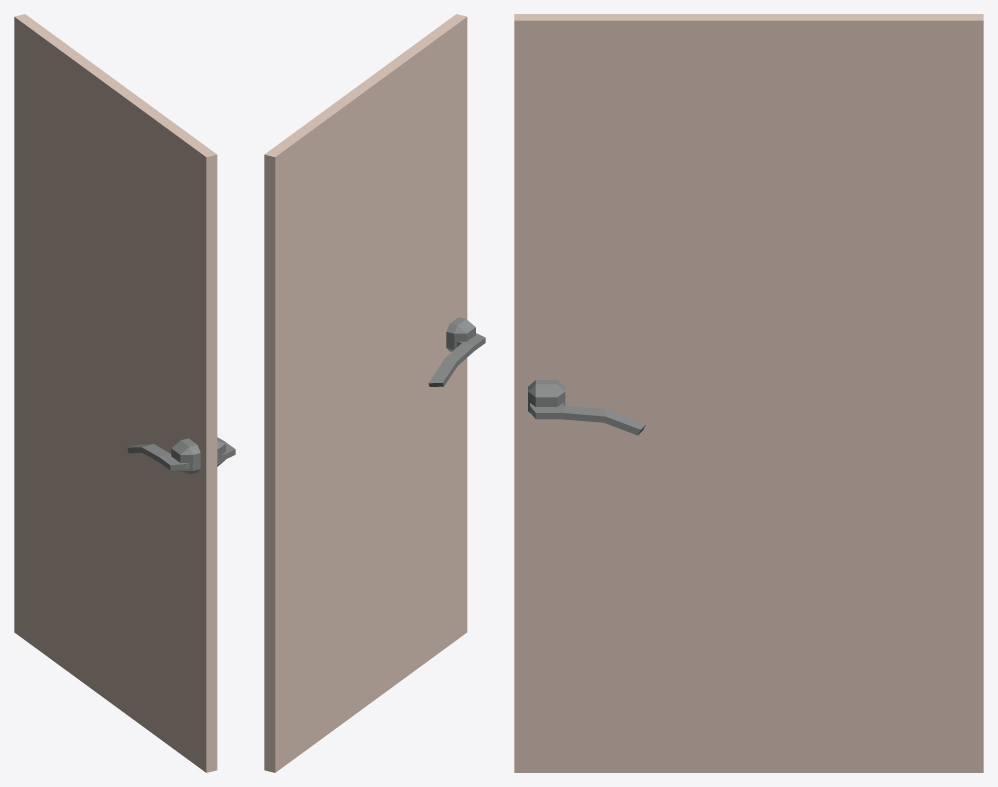
The model's file is RoomDoor.fbx.
3 renders of one model, left to right at view 1: azimuth 30°, elevation 25°; view 2: azimuth 150°, elevation 25°; view 3: azimuth 270°, elevation 25°, orthographic. The views are drawn at different scales.
Parts seen in each view (by area): view 1: Cube.010; view 2: Cube.010; view 3: Cube.010.
Boxes of the visible parts, left/top/right/bottom form: Cube.010: left=14, top=14, right=235, bottom=772; Cube.010: left=264, top=14, right=485, bottom=772; Cube.010: left=514, top=14, right=983, bottom=772.
Size of the model in its own units: 20.6 by 185 by 105.
